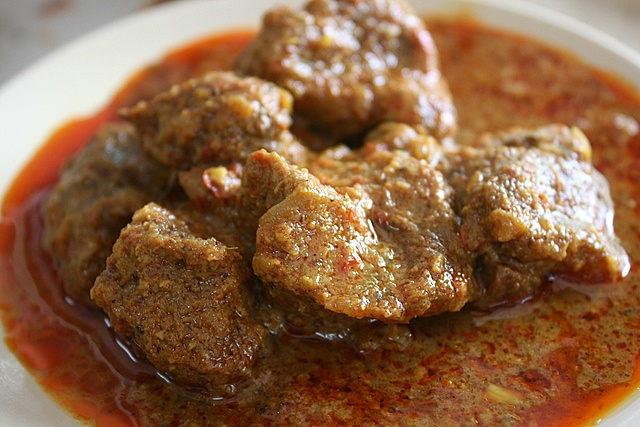rendang: (31, 6, 625, 352)
